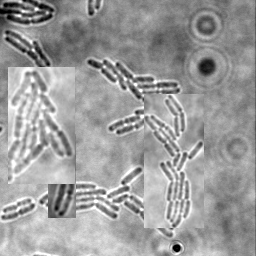Dividing: (1, 204, 37, 222), (3, 199, 33, 215)
Microcolony: (40, 167, 199, 238), (144, 94, 204, 228), (8, 67, 75, 184), (87, 59, 181, 136), (48, 134, 76, 218), (5, 30, 52, 72), (1, 1, 56, 26)
